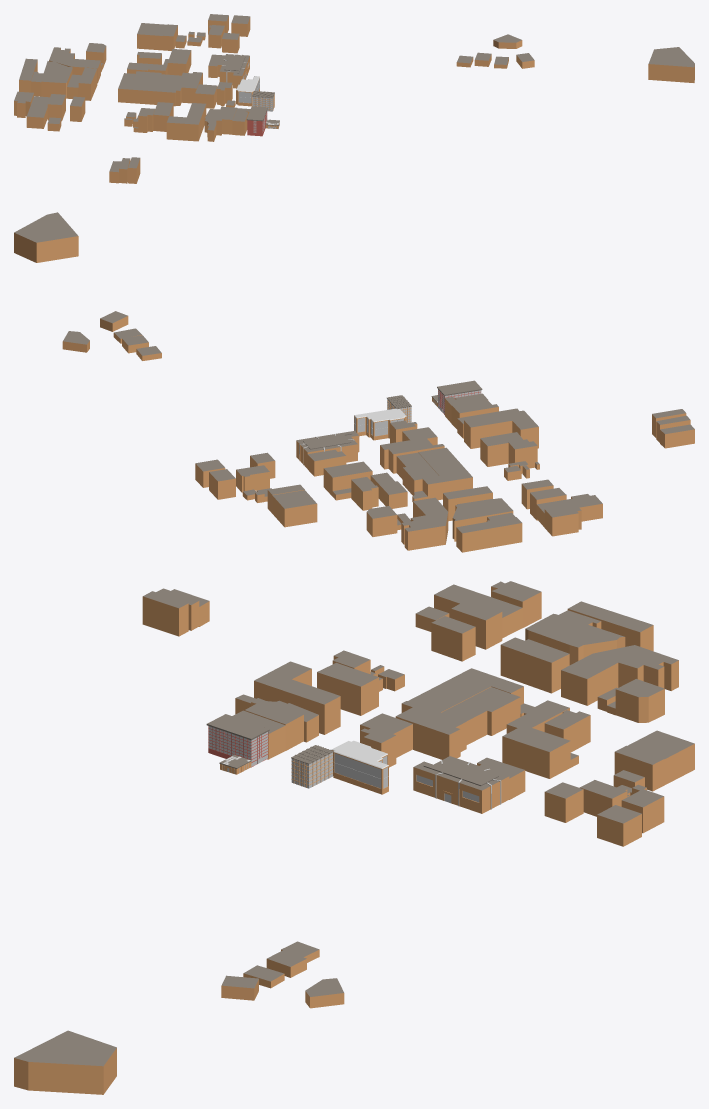
File: Coffs-Harbor_OSM_BUILD.fbx
3 views of the same model, one above another, from view 1: azimuth 30°, elevation 25°; view 2: azimuth 150°, elevation 25°; view 3: azimuth 270°, elevation 25° (orthographic). The views are drawn at different scales.
Visible parts, largest first — view 1: map_4.osm_buildings, map_4.osm_buildings.002, map_4.osm_buildings.001; view 2: map_4.osm_buildings, map_4.osm_buildings.002, map_4.osm_buildings.001; view 3: map_4.osm_buildings, map_4.osm_buildings.002, map_4.osm_buildings.001.
Boxes of the visible parts, x1=… form: map_4.osm_buildings: x1=14, y1=14, x2=694, y2=183; map_4.osm_buildings.002: x1=219, y1=54, x2=249, y2=88; map_4.osm_buildings.001: x1=236, y1=76, x2=259, y2=106; map_4.osm_buildings: x1=14, y1=212, x2=694, y2=552; map_4.osm_buildings.002: x1=296, y1=431, x2=359, y2=468; map_4.osm_buildings.001: x1=354, y1=408, x2=406, y2=440; map_4.osm_buildings: x1=14, y1=581, x2=694, y2=1094; map_4.osm_buildings.002: x1=413, y1=756, x2=509, y2=813; map_4.osm_buildings.001: x1=331, y1=740, x2=388, y2=794.
Size of the model in its own units: 665 by 22.43 by 390.
